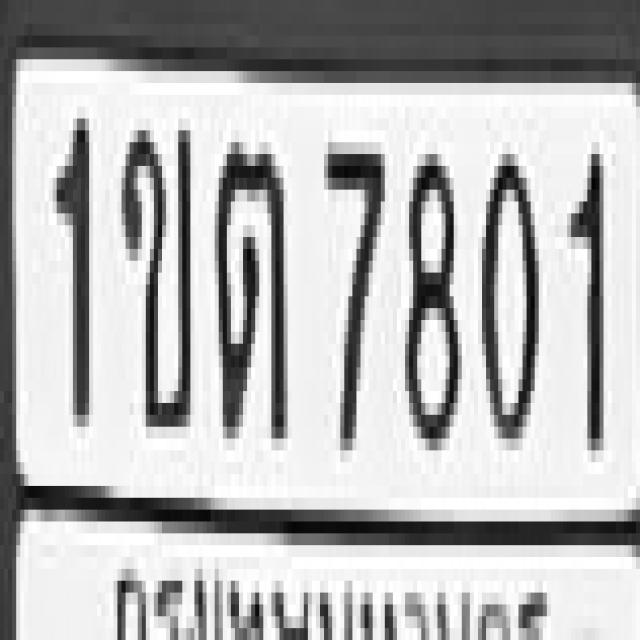-: (210, 130, 284, 427), (118, 118, 190, 415)
0: (478, 142, 535, 427)
1: (53, 106, 85, 414), (567, 142, 600, 439)
7: (320, 125, 381, 432)
8: (401, 142, 458, 439)
